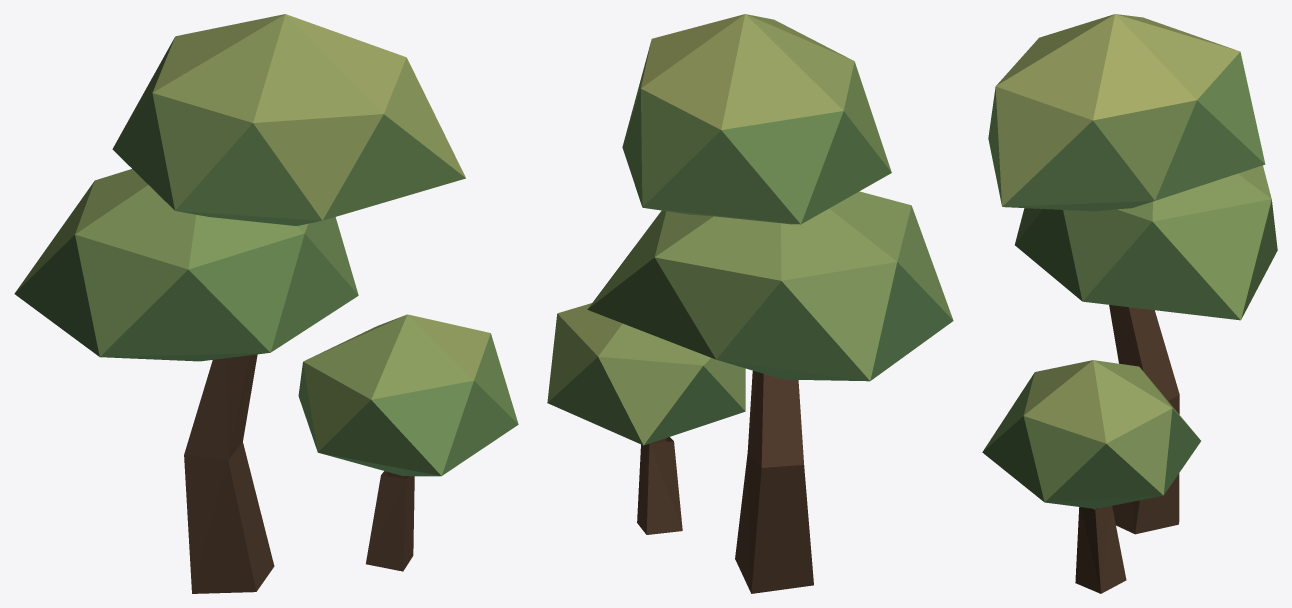
The model's file is prop_tree_meadow.glb.
3 renders of one model, left to right at view 1: azimuth 30°, elevation 25°; view 2: azimuth 150°, elevation 25°; view 3: azimuth 270°, elevation 25°, orthographic. The views are drawn at different scales.
Parts seen in each view (by area): view 1: prop_tree_meadow; view 2: prop_tree_meadow; view 3: prop_tree_meadow.
Boxes of the visible parts, left/top/right/bottom form: prop_tree_meadow: left=14, top=14, right=518, bottom=593; prop_tree_meadow: left=547, top=14, right=953, bottom=593; prop_tree_meadow: left=982, top=14, right=1277, bottom=593.
Size of the model in its own units: 0.7583 by 1.03 by 0.5193.
